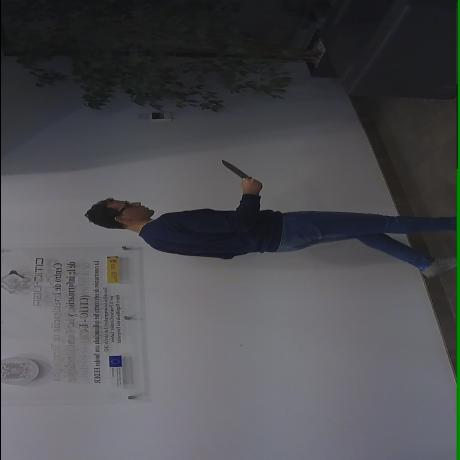1: (86, 179, 456, 281)
weapon: (220, 160, 259, 188)
